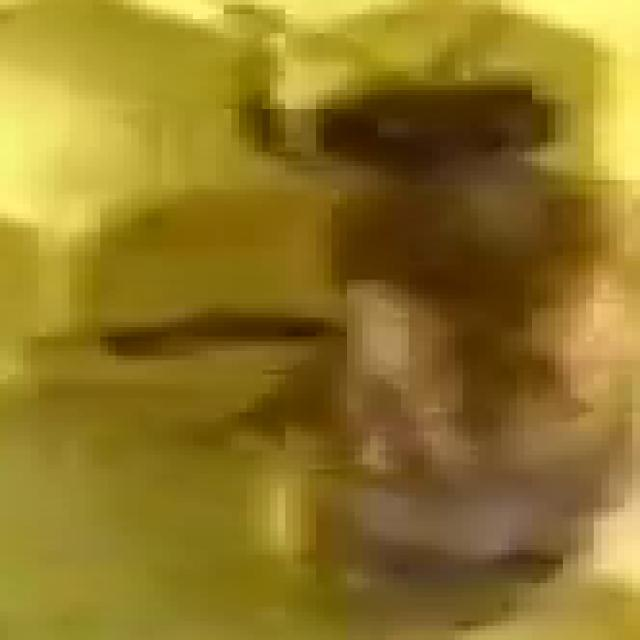honeybee: (115, 61, 640, 640)
